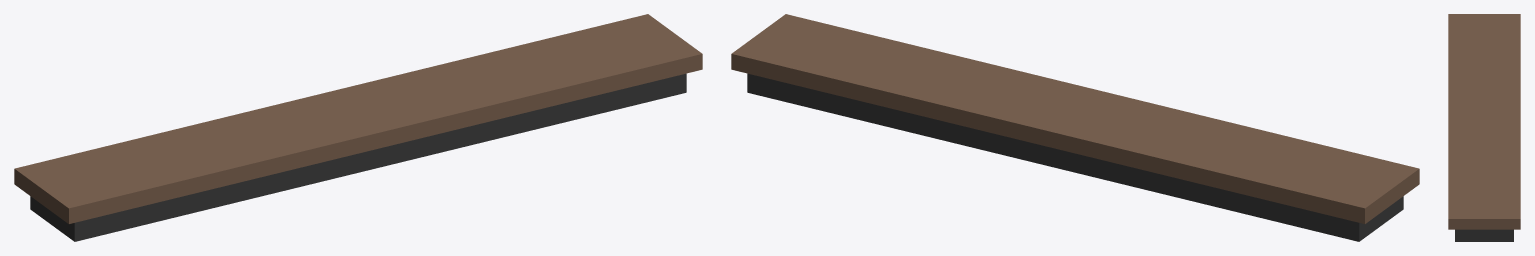
Rendered from Wood Deck.fbx.
3 renders of one model, left to right at view 1: azimuth 30°, elevation 25°; view 2: azimuth 150°, elevation 25°; view 3: azimuth 270°, elevation 25°, orthographic. The views are drawn at different scales.
Visible parts, largest first — view 1: Wood_Dock; view 2: Wood_Dock; view 3: Wood_Dock.
Part boxes in pixels (box(x1,y1,x2,y2)): Wood_Dock: box(14, 14, 702, 241); Wood_Dock: box(731, 14, 1419, 241); Wood_Dock: box(1448, 14, 1520, 241).
Bounding box in the file's own units: 7.69 × 0.462 × 1.14.
